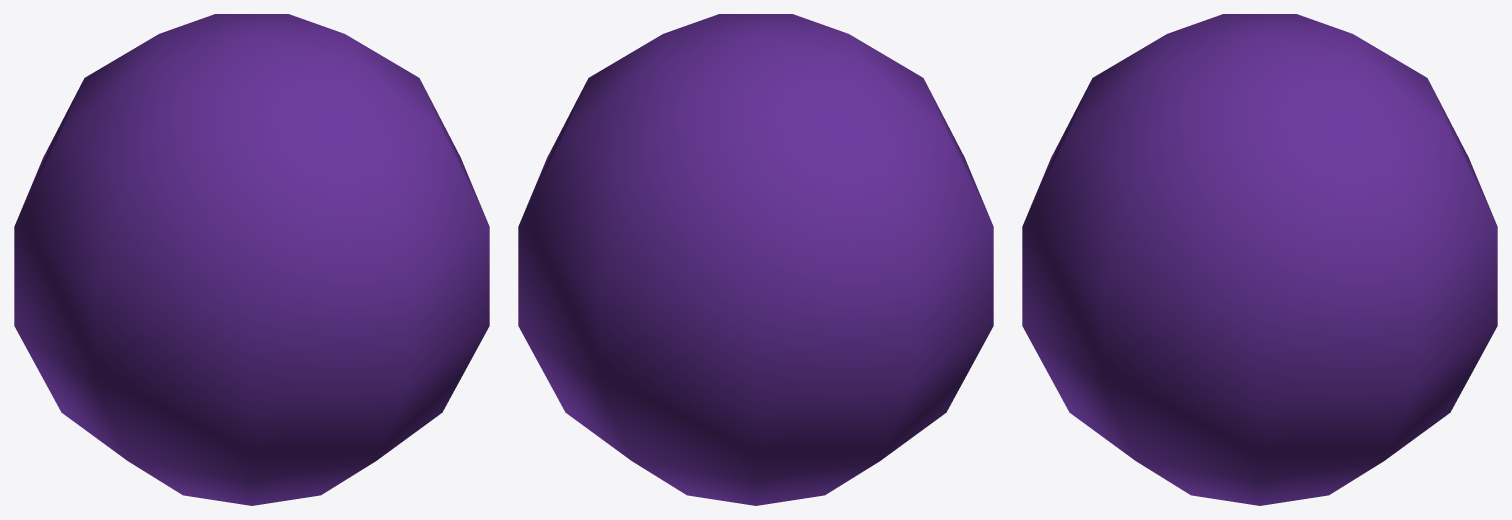
The model's file is sigilbug_stage1.obj.
3 renders of one model, left to right at view 1: azimuth 30°, elevation 25°; view 2: azimuth 150°, elevation 25°; view 3: azimuth 270°, elevation 25°, orthographic.
Size of the model in its own units: 1.23 by 1.3 by 1.25.
